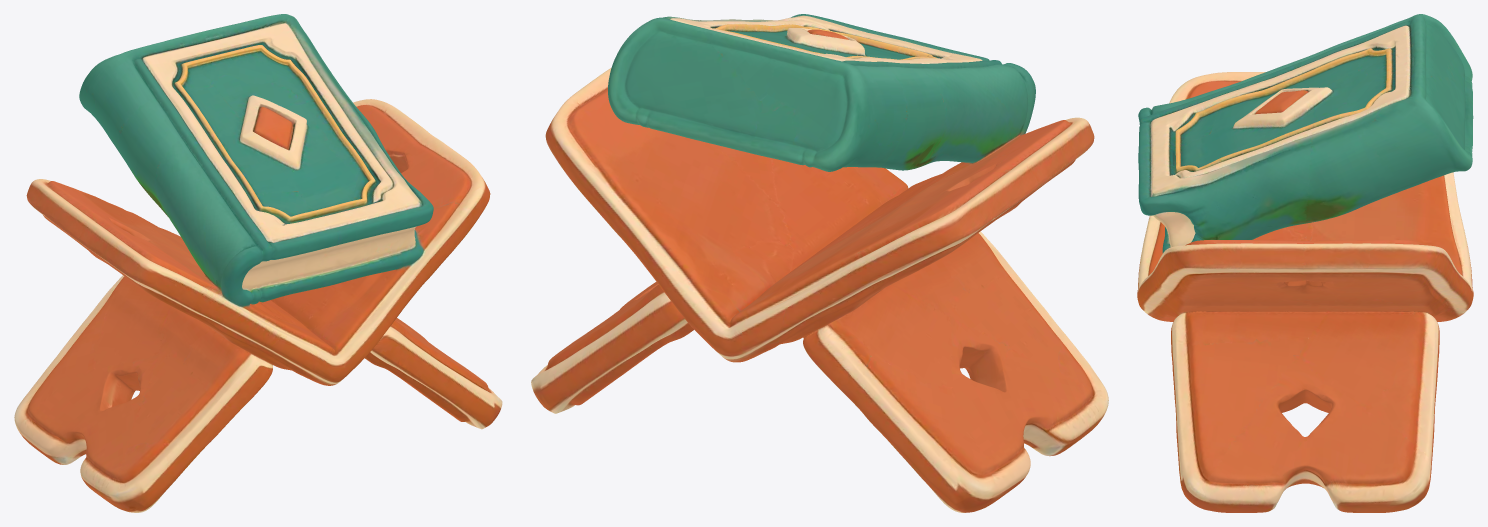
Rendered from rehal-quran-variant-10-closed-deep-teal.glb.
3 views of the same model, side by side, from view 1: azimuth 30°, elevation 25°; view 2: azimuth 150°, elevation 25°; view 3: azimuth 270°, elevation 25° (orthographic). The views are drawn at different scales.
Visible parts, largest first — view 1: mesh_node; view 2: mesh_node; view 3: mesh_node.
Part boxes in pixels (box(x1,y1,x2,y2)): mesh_node: box(14, 14, 502, 512); mesh_node: box(531, 14, 1108, 512); mesh_node: box(1137, 14, 1473, 512).
Size of the model in its own units: 1.9 by 1.68 by 1.38.
1 material, 1 textured.
